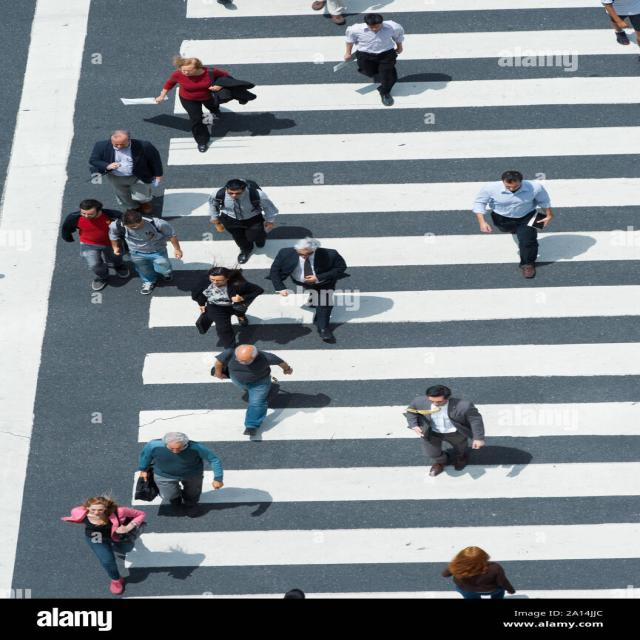Pedestrians: (468, 170, 562, 281), (54, 496, 155, 592), (266, 237, 357, 341), (128, 430, 232, 518), (208, 345, 298, 436), (404, 385, 488, 479), (157, 57, 239, 152), (88, 130, 167, 216), (341, 13, 412, 108), (207, 178, 281, 264), (188, 266, 260, 342), (64, 197, 118, 294), (436, 541, 522, 599), (124, 208, 178, 298)
